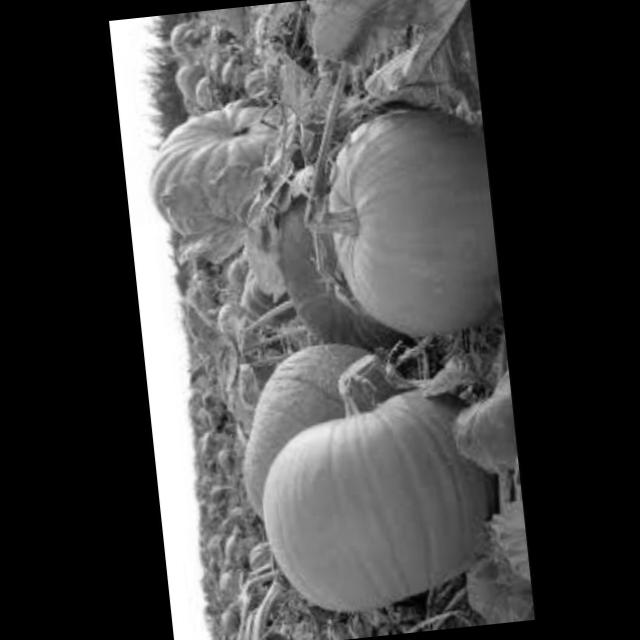bi ngo: (248, 372, 504, 622), (307, 104, 501, 346), (224, 333, 426, 520), (132, 89, 299, 254), (266, 180, 403, 358), (226, 260, 293, 340), (160, 20, 214, 106)
